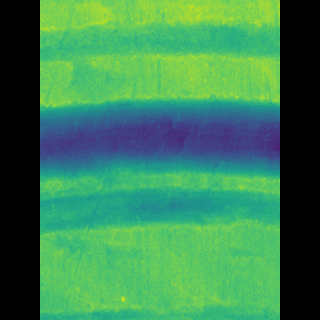Loch: (69, 0, 249, 239)
